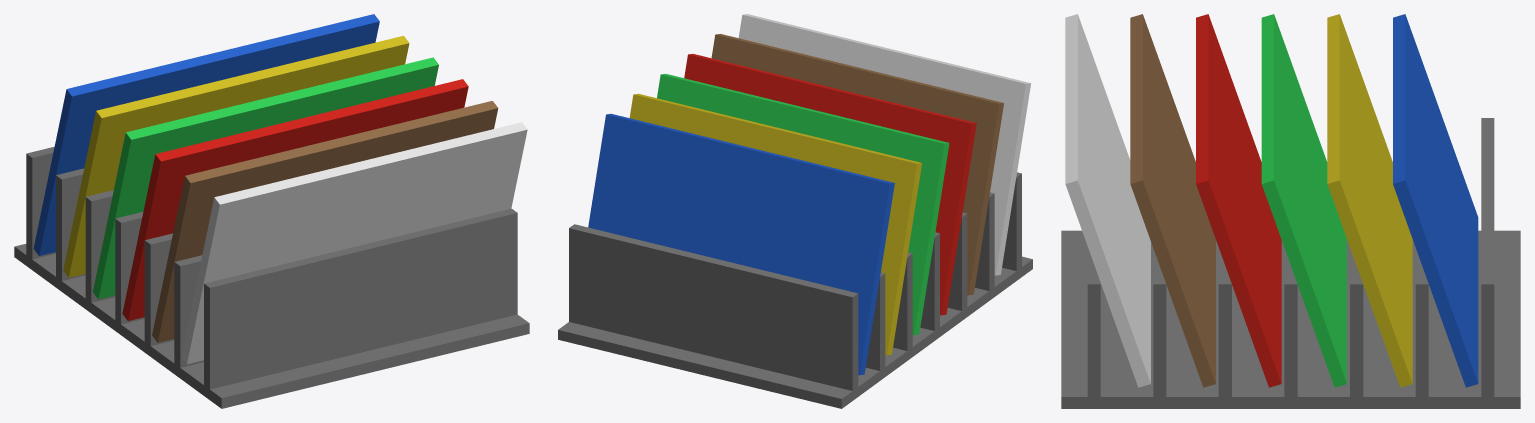
The model's file is cutting boards.fbx.
3 views of the same model, side by side, from view 1: azimuth 30°, elevation 25°; view 2: azimuth 150°, elevation 25°; view 3: azimuth 270°, elevation 25° (orthographic). The views are drawn at different scales.
Visible parts, largest first — view 1: Cube.012; view 2: Cube.012; view 3: Cube.012.
Boxes of the visible parts, <box> form: Cube.012: <box>14,14,529,408</box>; Cube.012: <box>558,14,1032,408</box>; Cube.012: <box>1061,14,1520,408</box>.
Size of the model in its own units: 600 by 384 by 700.
